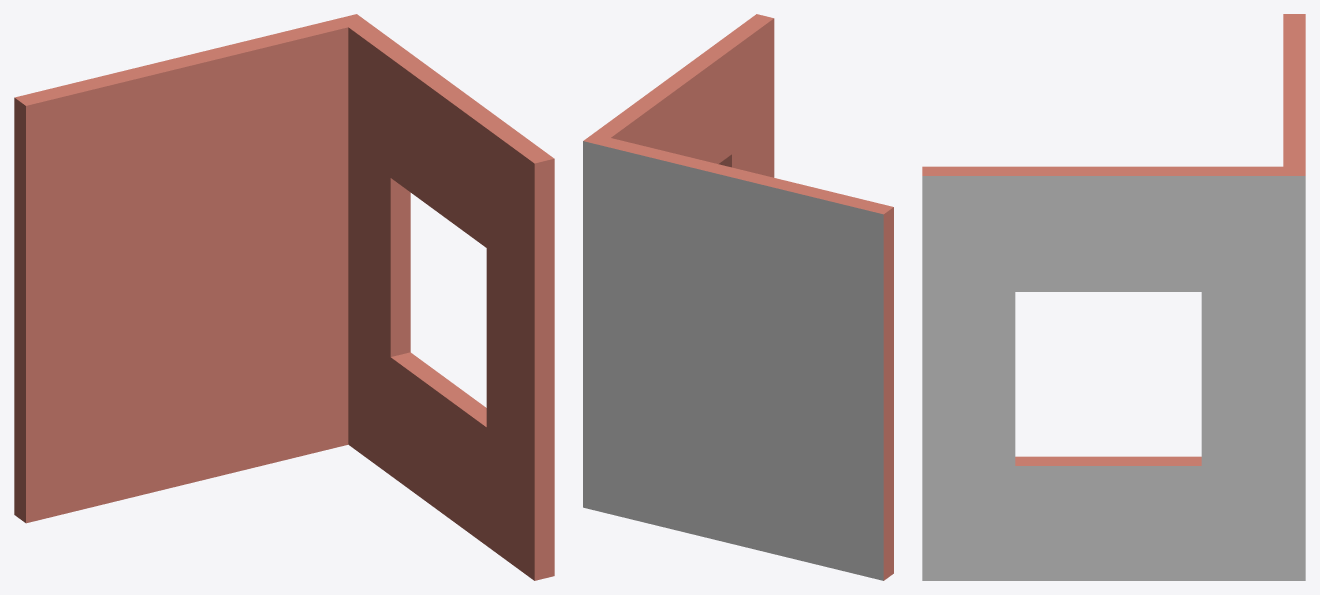
The model's file is Wall1_C6_11.fbx.
The picture shows the model from 3 angles, left to right: view 1: azimuth 30°, elevation 25°; view 2: azimuth 150°, elevation 25°; view 3: azimuth 270°, elevation 25°; orthographic projection. The views are drawn at different scales.
Parts seen in each view (by area): view 1: Wall1_C6_11; view 2: Wall1_C6_11; view 3: Wall1_C6_11.
Boxes of the visible parts, left/top/right/bottom form: Wall1_C6_11: left=14, top=14, right=554, bottom=580; Wall1_C6_11: left=583, top=14, right=893, bottom=580; Wall1_C6_11: left=922, top=14, right=1305, bottom=580.
Bounding box in the file's own units: 258 × 300 × 258.
